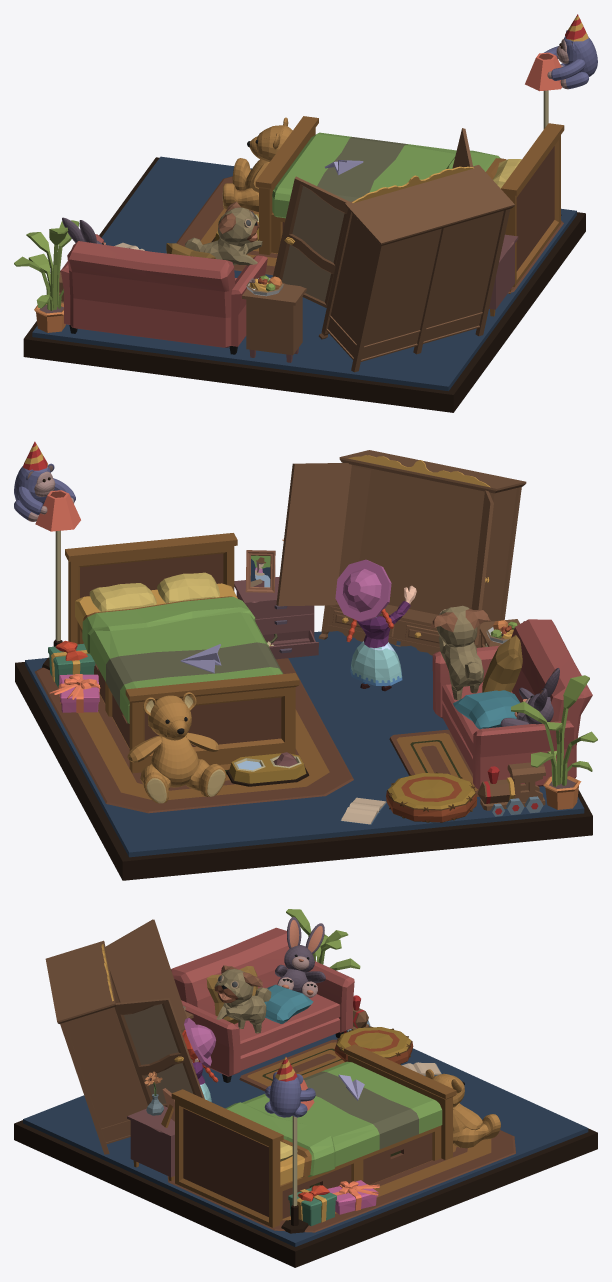
File: Woshi_Chai.FBX
3 views of the same model, one above another, from view 1: azimuth 30°, elevation 25°; view 2: azimuth 150°, elevation 25°; view 3: azimuth 270°, elevation 25° (orthographic). The views are drawn at different scales.
Visible parts, largest first — view 1: Woshi75, Woshi01, Woshi27, Woshi00, Woshi43, Woshi40, Woshi79, Woshi22, Woshi41, Woshi42, Woshi78, Woshi35 (+9 smaller); view 2: Woshi01, Woshi75, Woshi00, Woshi43, Woshi27, Woshi40, Woshi76, Woshi93, Woshi42, Woshi35, Woshi92, Woshi41 (+34 smaller); view 3: Woshi01, Woshi00, Woshi27, Woshi75, Woshi42, Woshi43, Woshi40, Woshi78, Woshi41, Woshi93, Woshi77, Woshi76 (+21 smaller).
Boxes of the visible parts, x1,y1,x2,y2 form: Woshi75: (318, 165, 514, 372); Woshi01: (32, 156, 576, 391); Woshi27: (61, 234, 267, 347); Woshi00: (23, 157, 585, 412); Woshi43: (255, 116, 564, 286); Woshi40: (272, 132, 500, 218); Woshi79: (282, 186, 344, 301); Woshi22: (242, 284, 306, 362); Woshi41: (317, 137, 407, 201); Woshi42: (282, 146, 554, 271); Woshi78: (273, 176, 349, 307); Woshi35: (223, 117, 292, 212); Woshi01: (25, 631, 584, 857); Woshi75: (318, 450, 526, 655); Woshi00: (15, 662, 592, 880); Woshi43: (65, 533, 299, 773); Woshi27: (432, 619, 592, 789); Woshi40: (82, 597, 282, 723); Woshi76: (276, 463, 351, 606); Woshi93: (35, 658, 353, 813); Woshi42: (80, 553, 281, 747); Woshi35: (127, 692, 226, 803); Woshi92: (78, 694, 329, 799); Woshi41: (106, 642, 282, 707); Woshi01: (23, 1034, 588, 1246); Woshi00: (14, 1120, 597, 1267); Woshi27: (171, 927, 354, 1076); Woshi75: (45, 940, 147, 1154); Woshi42: (183, 1108, 432, 1218); Woshi43: (171, 1044, 456, 1227); Woshi40: (225, 1061, 442, 1176); Woshi78: (105, 919, 186, 1030); Woshi41: (303, 1071, 418, 1149); Woshi93: (167, 1130, 515, 1232); Woshi77: (124, 1004, 193, 1103); Woshi76: (114, 998, 204, 1107).
Size of the model in its own units: 31.22 by 11.93 by 30.67.
